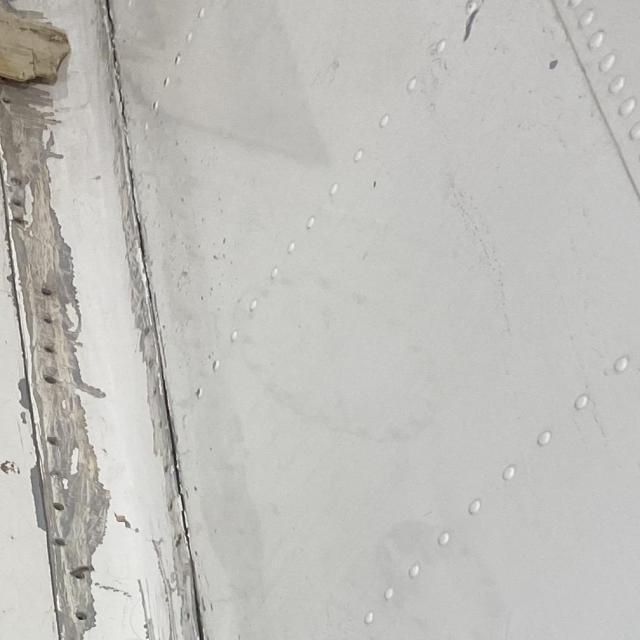Crack: (161, 356, 196, 541), (121, 192, 151, 269)
Paint-off: (462, 0, 485, 39), (543, 50, 571, 73)
Scratch: (0, 86, 106, 640), (145, 595, 200, 640)
